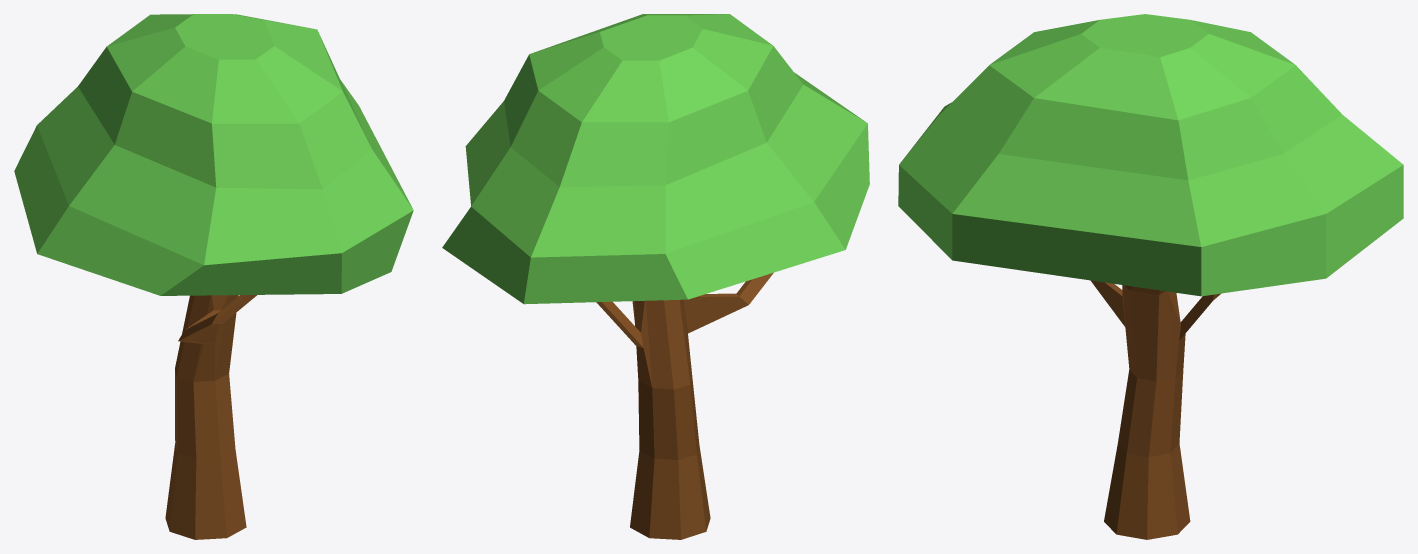
File: Baumhart.fbx
3 renders of one model, left to right at view 1: azimuth 30°, elevation 25°; view 2: azimuth 150°, elevation 25°; view 3: azimuth 270°, elevation 25°, orthographic. The views are drawn at different scales.
Visible parts, largest first — view 1: Cylinder; view 2: Cylinder; view 3: Cylinder.
Part boxes in pixels (x1,y1,x2,y2): Cylinder: (14, 14, 413, 539); Cylinder: (442, 14, 869, 539); Cylinder: (898, 14, 1403, 539).
Size of the model in its own units: 967 by 1267 by 1168.
